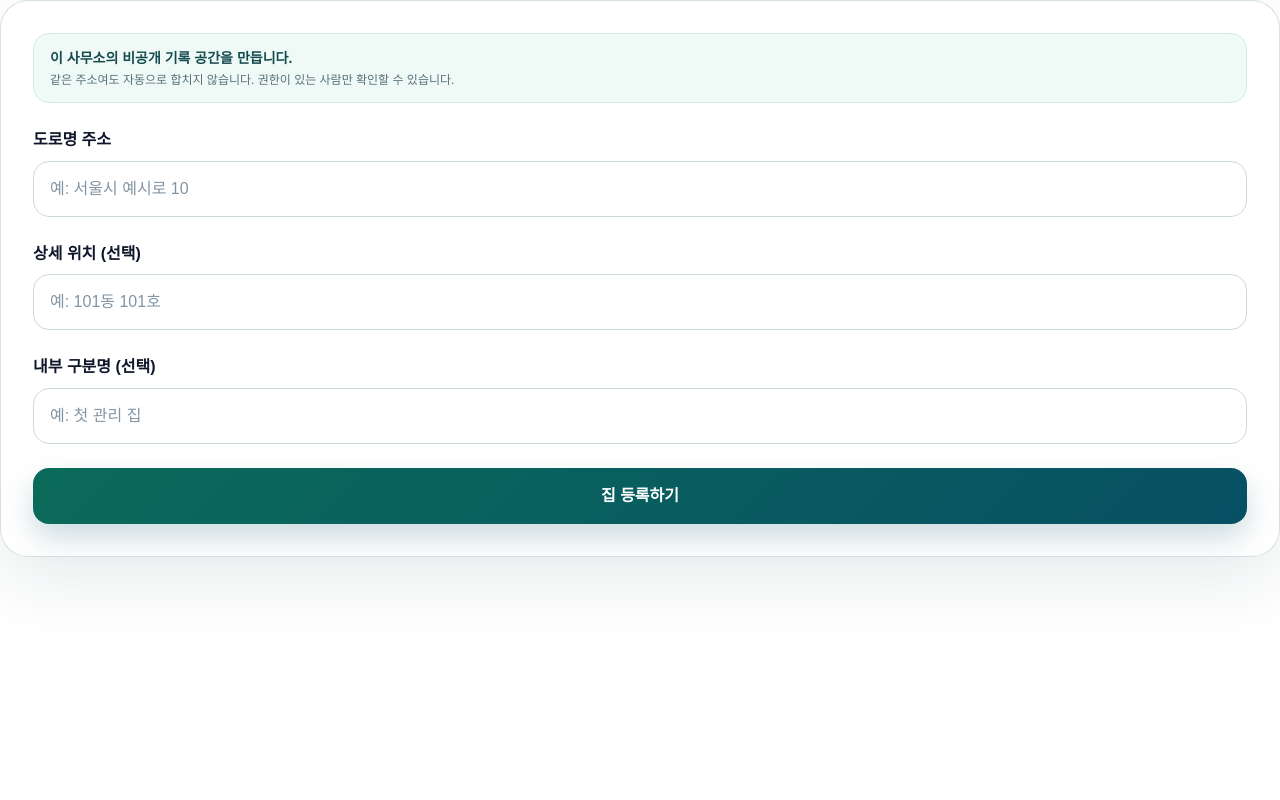
Test: HomeForm › TEST-HOME-009 shows inline validation and focuses the address without submitting
The image size is (1280, 800).
Click the button "집 등록하기". click: (640, 496)
box: [33, 468, 1247, 524]
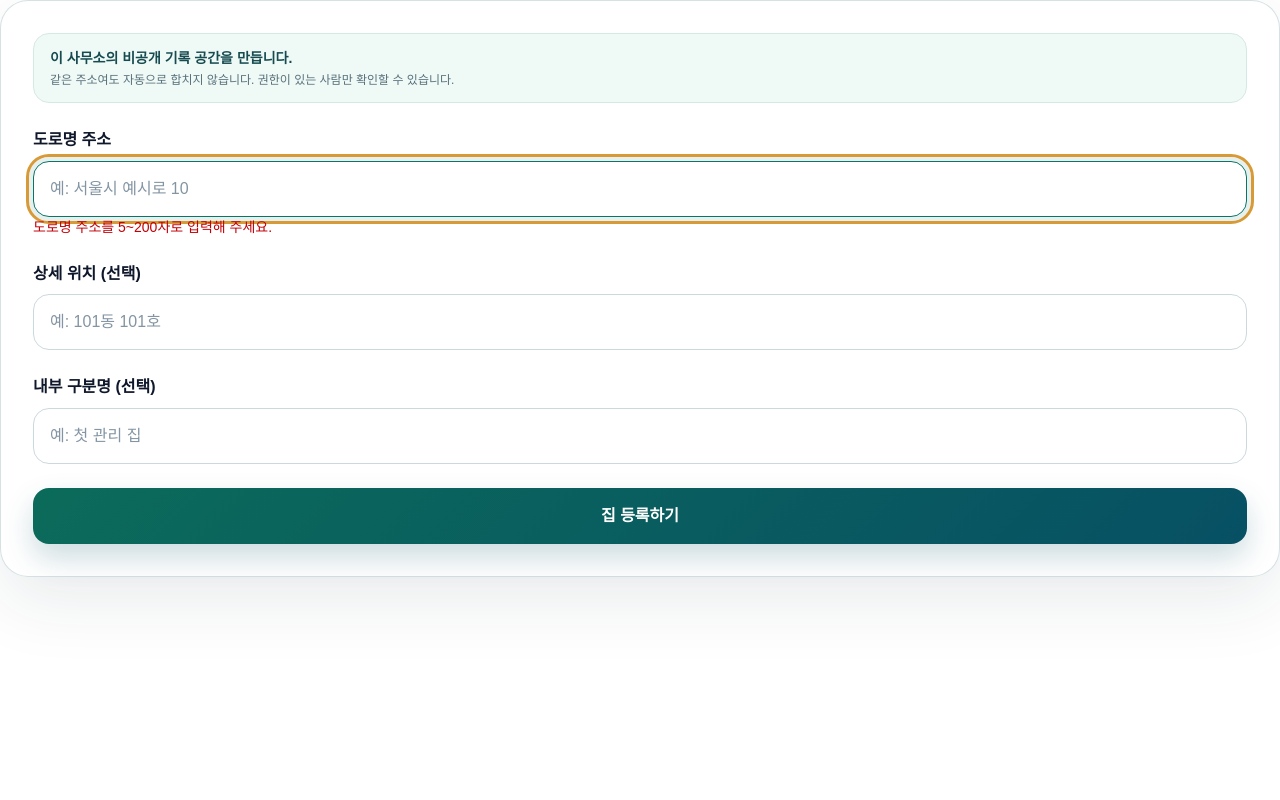
Expected: the text "도로명 주소를 5~200자로 입력해 주세요." is shown, [33, 219, 272, 235]
